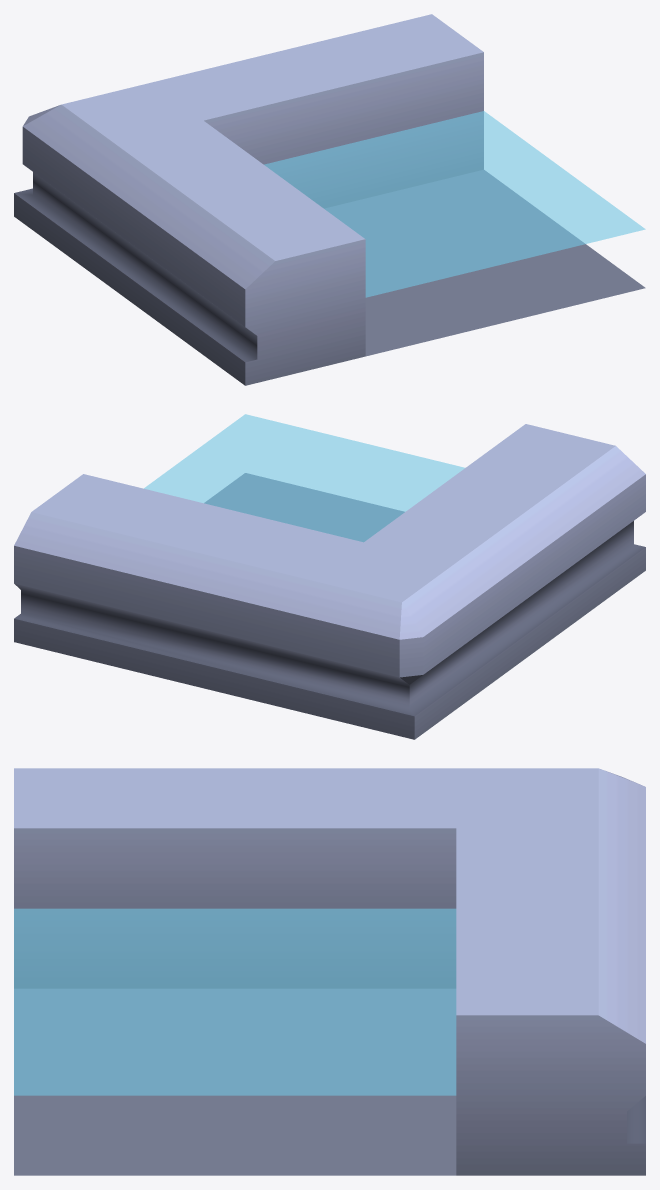
The model's file is fountain-corner.glb.
3 renders of one model, top to bottom at view 1: azimuth 30°, elevation 25°; view 2: azimuth 150°, elevation 25°; view 3: azimuth 270°, elevation 25°, orthographic. The views are drawn at different scales.
Parts seen in each view (by area): view 1: fountain-corner, (%ignore); view 2: fountain-corner, (%ignore); view 3: fountain-corner, (%ignore).
Boxes of the visible parts, x1,y1,x2,y2 form: fountain-corner: [14, 14, 645, 385]; (%ignore): [264, 111, 645, 297]; fountain-corner: [14, 424, 645, 739]; (%ignore): [144, 414, 464, 542]; fountain-corner: [14, 768, 645, 1175]; (%ignore): [14, 908, 456, 1095].
Bounding box in the file's own units: 1 × 0.2799 × 1.
Materials: 2 (1 with a texture image).
